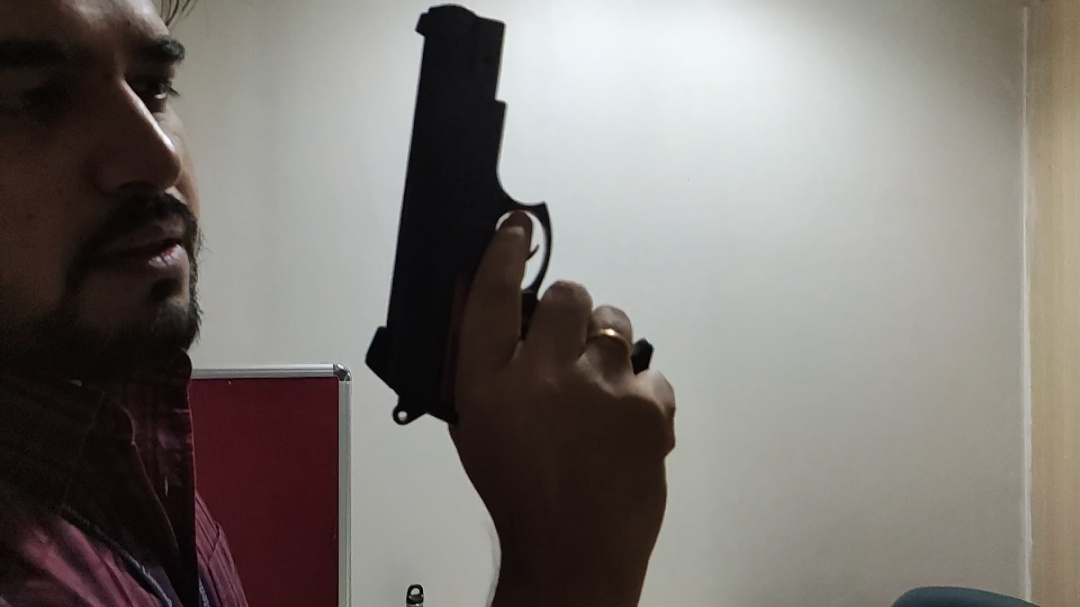gun: (363, 3, 661, 429)
